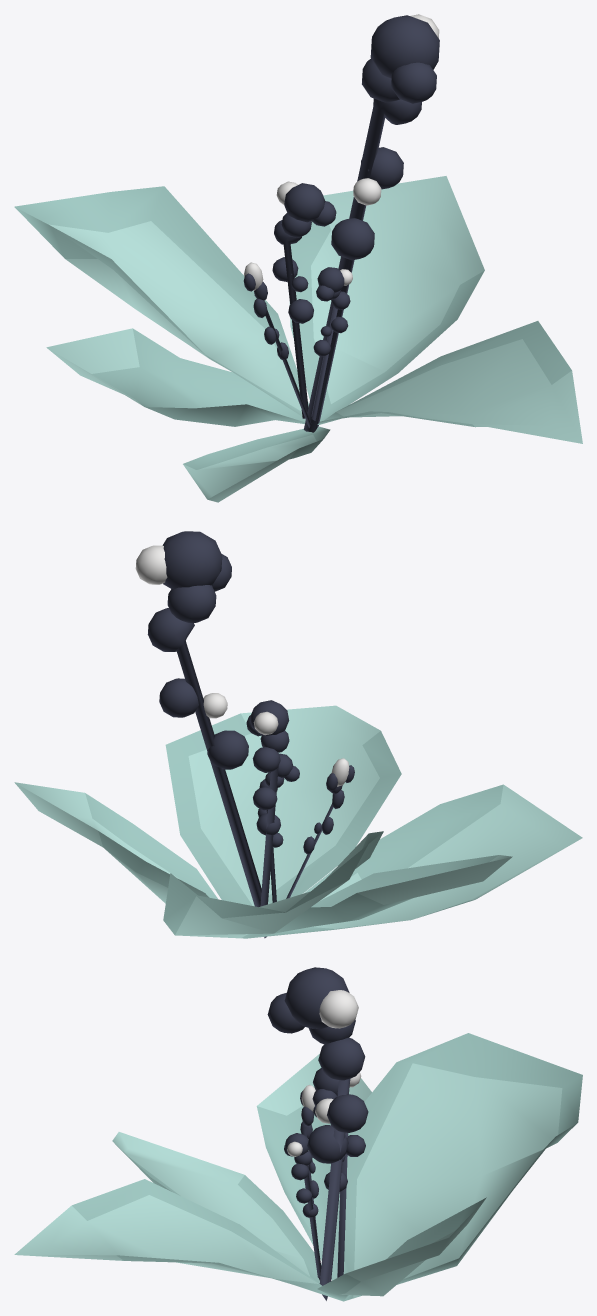
File: flower_p03.fbx
3 views of the same model, one above another, from view 1: azimuth 30°, elevation 25°; view 2: azimuth 150°, elevation 25°; view 3: azimuth 270°, elevation 25° (orthographic). The views are drawn at different scales.
Visible parts, largest first — view 1: Fleur03; view 2: Fleur03; view 3: Fleur03.
Part boxes in pixels (x1=…): Fleur03: x1=14, y1=14, x2=582, y2=502; Fleur03: x1=14, y1=531, x2=582, y2=938; Fleur03: x1=14, y1=967, x2=582, y2=1301.
Size of the model in its own units: 202 by 168 by 235.
